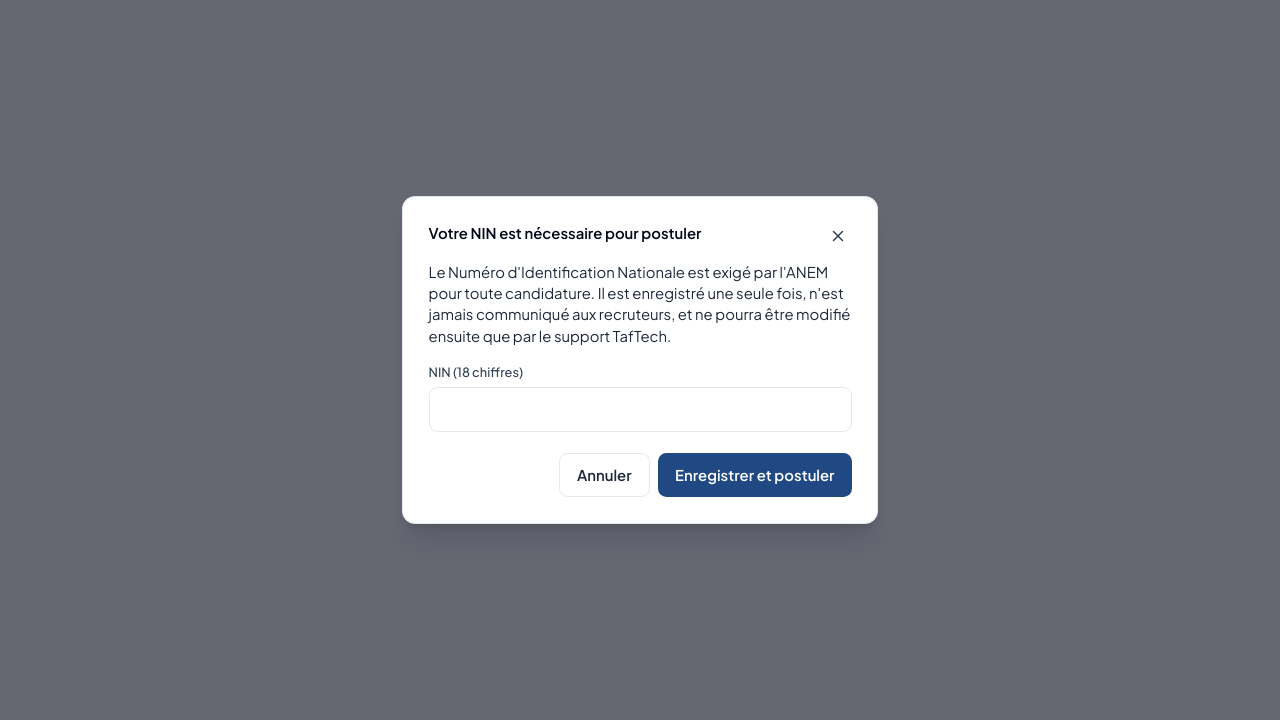
Scenario: ModalNIN › ne garde que les chiffres saisis
The image size is (1280, 720).
In the field labelled "NIN (18 chiffres)": (640, 409) [428, 387, 852, 432], type "12ab 34-56"
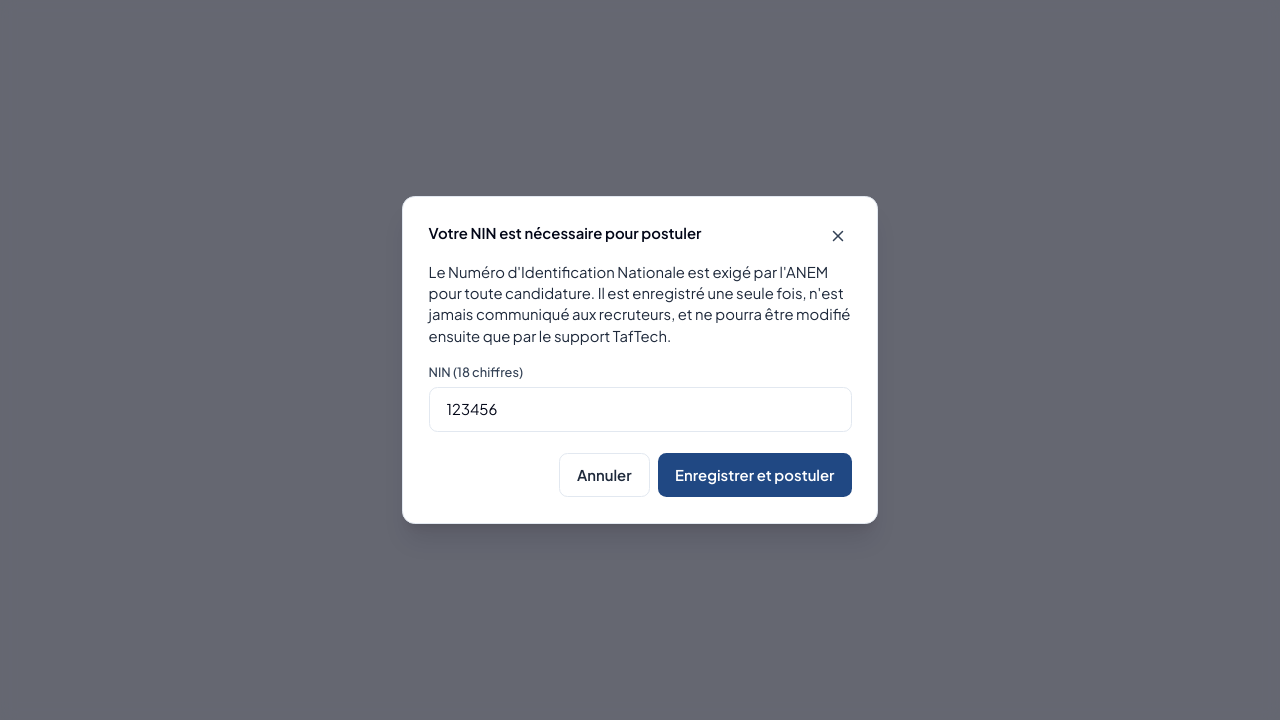
expect the field labelled "NIN (18 chiffres)" holds "123456": met, box [428, 387, 852, 432]
